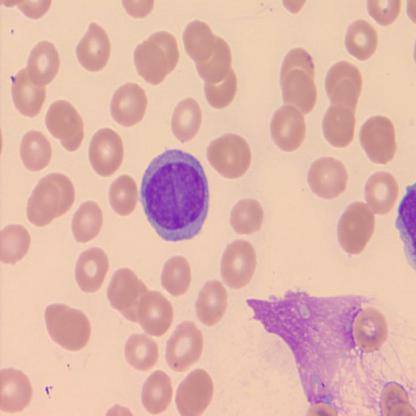Blast: (140, 146, 212, 244)
